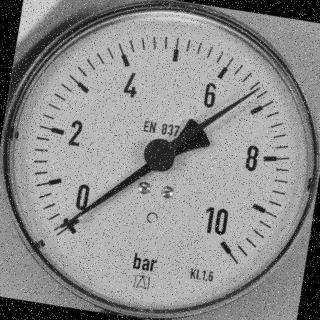gauge: (0, 0, 320, 319), (143, 137, 177, 173), (206, 225, 237, 261), (56, 210, 86, 242), (52, 219, 67, 235), (251, 83, 265, 96)
